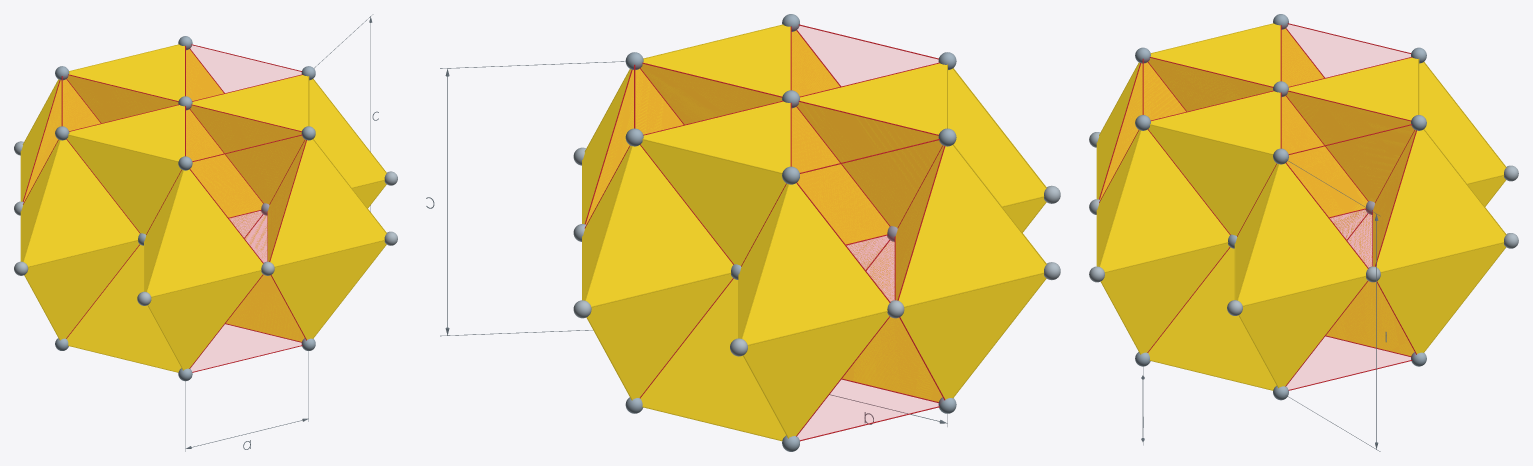
Rendered from hdp-kugelmittelpunkte.glb.
3 renders of one model, left to right at view 1: azimuth 30°, elevation 25°; view 2: azimuth 150°, elevation 25°; view 3: azimuth 270°, elevation 25°, orthographic. The views are drawn at different scales.
Visible parts, largest first — view 1: octahedral_02_flaechen, tetrahedral_18_flaechen, tetrahedral_10_flaechen, tetrahedral_12_flaechen, tetrahedral_08_flaechen, tetrahedral_06_flaechen, tetrahedral_05_flaechen, tetrahedral_04_flaechen, octahedral_01_flaechen, tetrahedral_16_flaechen, tetrahedral_09_flaechen, tetrahedral_11_flaechen (+12 smaller); view 2: octahedral_04_flaechen, tetrahedral_17_flaechen, tetrahedral_12_flaechen, tetrahedral_14_flaechen, tetrahedral_04_flaechen, tetrahedral_06_flaechen, tetrahedral_03_flaechen, tetrahedral_08_flaechen, tetrahedral_15_flaechen, tetrahedral_11_flaechen, tetrahedral_13_flaechen, octahedral_03_flaechen (+13 smaller); view 3: octahedral_06_flaechen, tetrahedral_18_flaechen, tetrahedral_20_flaechen, tetrahedral_08_flaechen, tetrahedral_17_flaechen, tetrahedral_04_flaechen, tetrahedral_07_flaechen, tetrahedral_06_flaechen, octahedral_05_flaechen, tetrahedral_19_flaechen, tetrahedral_15_flaechen, tetrahedral_16_flaechen (+15 smaller).
Part boxes in pixels (x1,y1,x2,y2): octahedral_02_flaechen: (186,106,305,261); tetrahedral_18_flaechen: (267,139,386,266); tetrahedral_10_flaechen: (144,169,262,296); tetrahedral_12_flaechen: (21,139,139,266); tetrahedral_08_flaechen: (190,75,308,204); tetrahedral_06_flaechen: (67,105,184,234); tetrahedral_05_flaechen: (67,244,181,371); tetrahedral_04_flaechen: (67,45,184,123); octahedral_01_flaechen: (191,211,303,371); tetrahedral_16_flaechen: (271,240,385,339); tetrahedral_09_flaechen: (148,271,262,369); tetrahedral_11_flaechen: (25,241,139,339); octahedral_04_flaechen: (792,102,943,300); tetrahedral_17_flaechen: (582,145,732,306); tetrahedral_12_flaechen: (895,145,1045,306); tetrahedral_14_flaechen: (739,183,889,344); tetrahedral_04_flaechen: (640,101,790,265); tetrahedral_06_flaechen: (797,63,946,227); tetrahedral_03_flaechen: (640,279,785,440); tetrahedral_08_flaechen: (641,25,790,124); tetrahedral_15_flaechen: (587,273,732,399); tetrahedral_11_flaechen: (900,273,1045,399); tetrahedral_13_flaechen: (744,312,889,437); octahedral_03_flaechen: (798,236,941,439); octahedral_06_flaechen: (1282,92,1415,266); tetrahedral_18_flaechen: (1097,129,1229,271); tetrahedral_20_flaechen: (1235,163,1367,305); tetrahedral_08_flaechen: (1148,91,1280,235); tetrahedral_17_flaechen: (1373,129,1505,271); tetrahedral_04_flaechen: (1286,57,1418,202); tetrahedral_07_flaechen: (1148,247,1276,389); tetrahedral_06_flaechen: (1148,24,1280,111); octahedral_05_flaechen: (1287,210,1413,388); tetrahedral_19_flaechen: (1239,276,1367,387); tetrahedral_15_flaechen: (1377,243,1505,353); tetrahedral_16_flaechen: (1101,243,1229,353).
Bounding box in the file's own units: 3.5 × 2.39 × 2.7.
